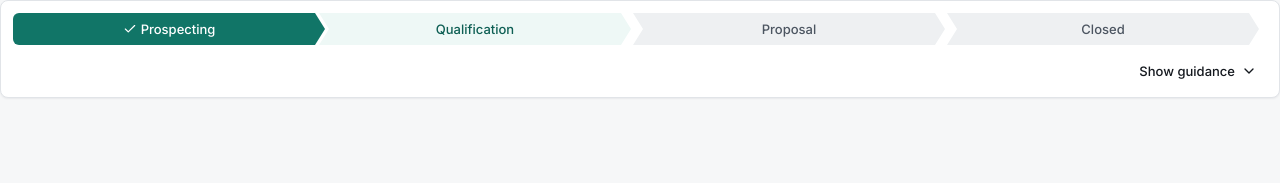
Test: Path › opens the guidance drawer for the selected stage
The image size is (1280, 183).
Click the button "Show guidance". click: x=1198, y=71
box: [1129,57,1267,85]
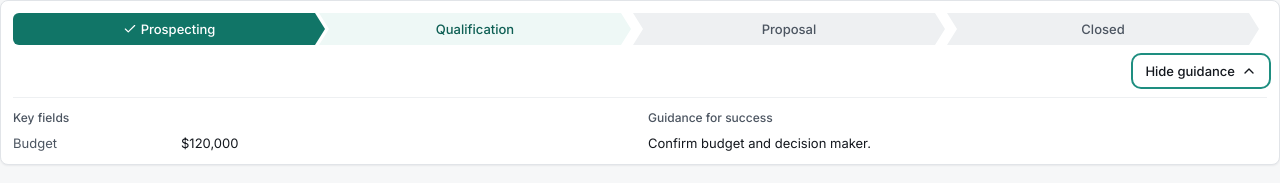
Now the text "Confirm budget and decision maker." is shown, box [648,135,871,151]
Now the text "Budget" is shown, box [13,135,57,151]
Click the button "Proposal". click: x=789, y=29
box: [633,13,945,45]
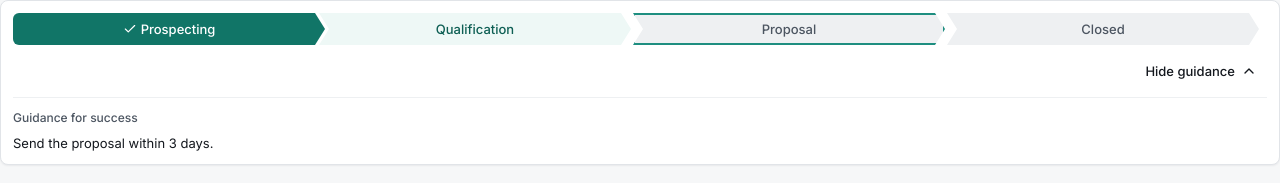
Now the text "Send the proposal within 3 days." is shown, box [13,135,213,151]
Click the button "Hide guidance". click: x=1201, y=71
box: [1135,57,1267,85]
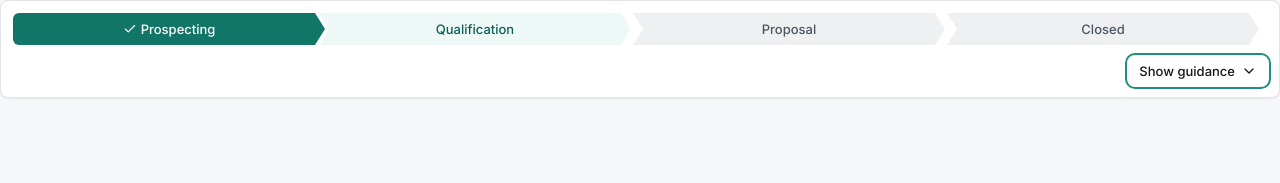
Now the text "Send the proposal within 3 days." is gone
